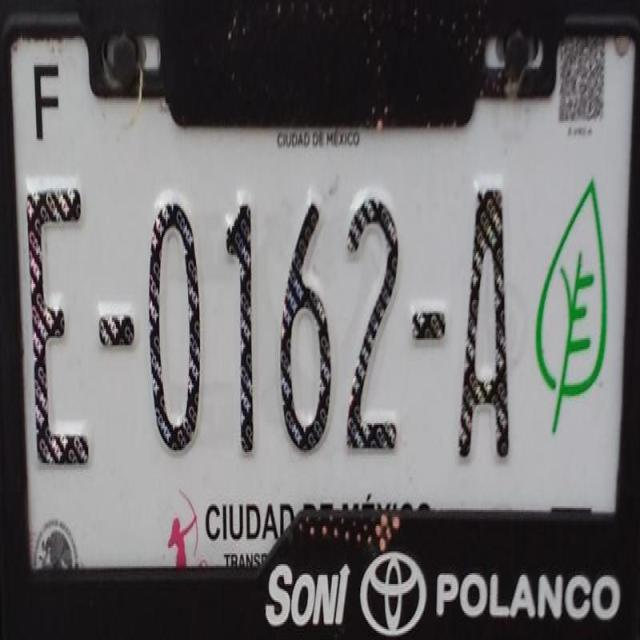placa: (20, 159, 524, 496)
